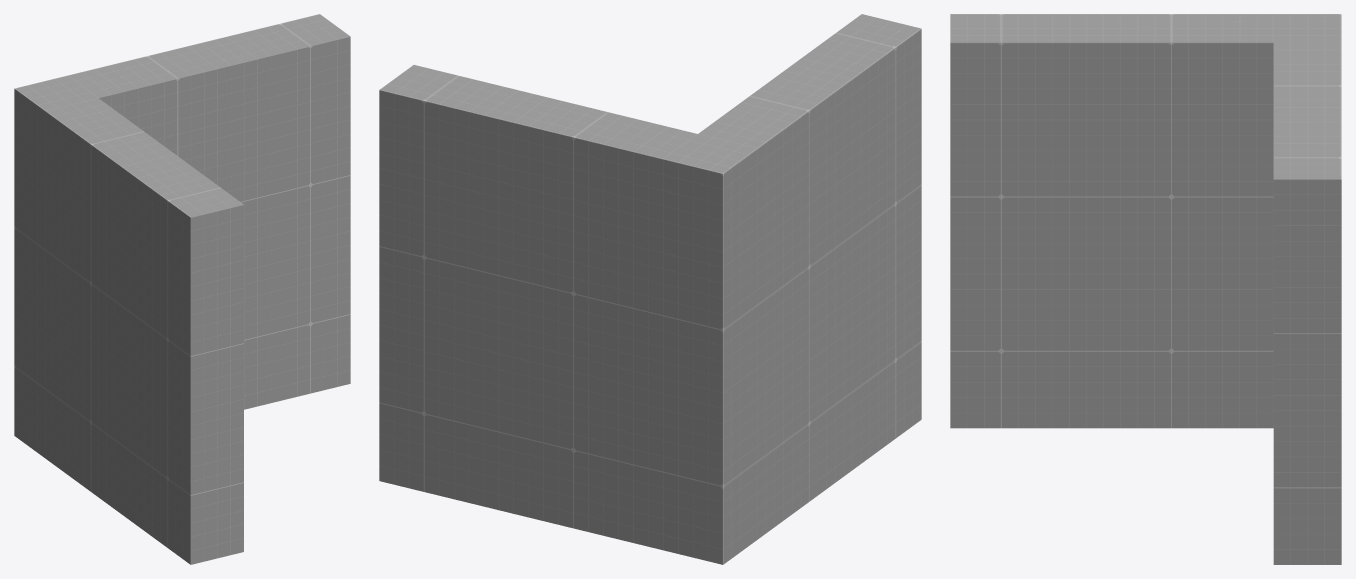
Rendered from Corner_2x2_Thick.001.fbx.
3 views of the same model, side by side, from view 1: azimuth 30°, elevation 25°; view 2: azimuth 150°, elevation 25°; view 3: azimuth 270°, elevation 25° (orthographic). The views are drawn at different scales.
Visible parts, largest first — view 1: Corner_2x2_Thick.001; view 2: Corner_2x2_Thick.001; view 3: Corner_2x2_Thick.001.
Boxes of the visible parts, box(x1,y1,x2,y2) form: Corner_2x2_Thick.001: box(14, 14, 350, 564); Corner_2x2_Thick.001: box(379, 14, 921, 564); Corner_2x2_Thick.001: box(950, 14, 1341, 564).
Bounding box in the file's own units: 230 × 250 × 230.
